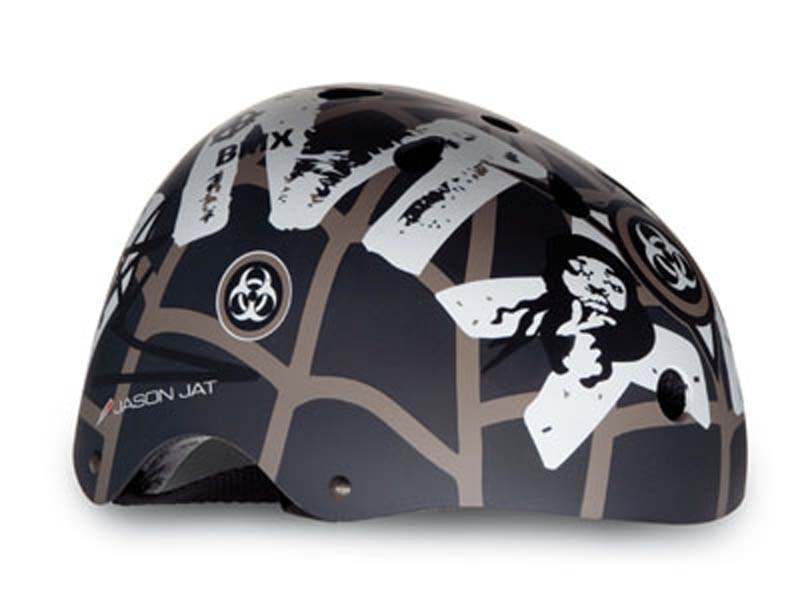helmet: (98, 97, 765, 532)
